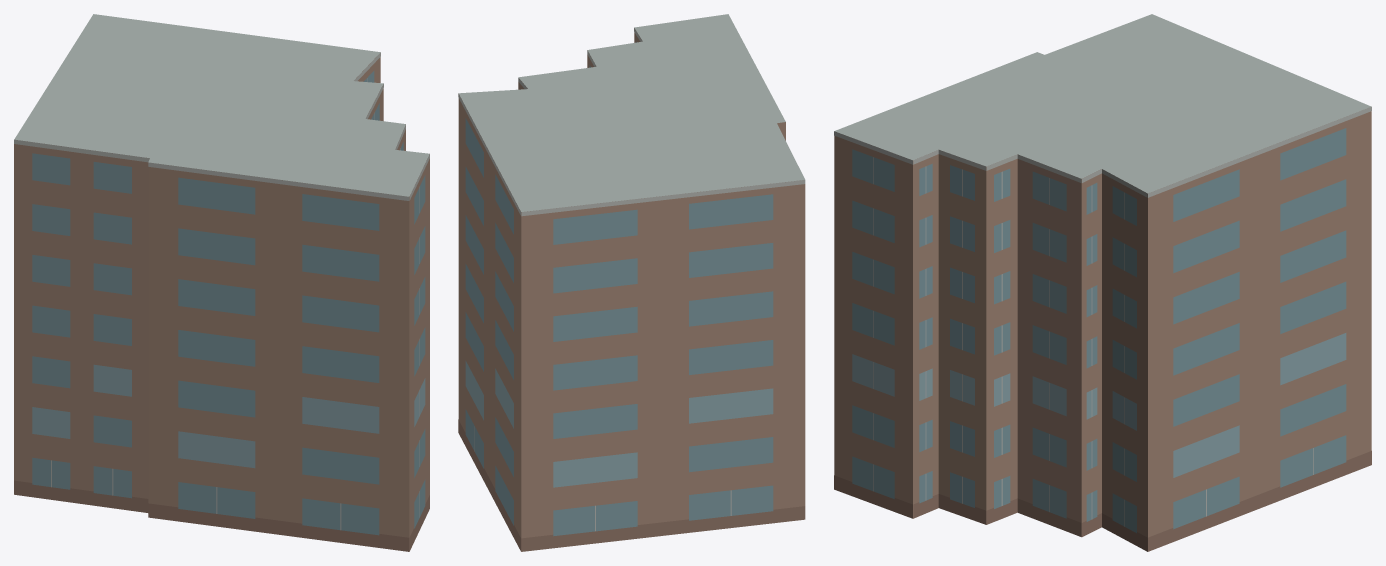
Rendered from survey-upis-32812536.glb.
The picture shows the model from 3 angles, left to right: view 1: azimuth 30°, elevation 25°; view 2: azimuth 150°, elevation 25°; view 3: azimuth 270°, elevation 25°; orthographic projection. The views are drawn at different scales.
Parts seen in each view (by area): view 1: survey-upis-32812536.tmp; view 2: survey-upis-32812536.tmp; view 3: survey-upis-32812536.tmp.
Boxes of the visible parts, <box> form: survey-upis-32812536.tmp: <box>14,14,429,551</box>; survey-upis-32812536.tmp: <box>458,14,805,551</box>; survey-upis-32812536.tmp: <box>834,14,1371,551</box>.
Size of the model in its own units: 21.28 by 19.8 by 26.92.
